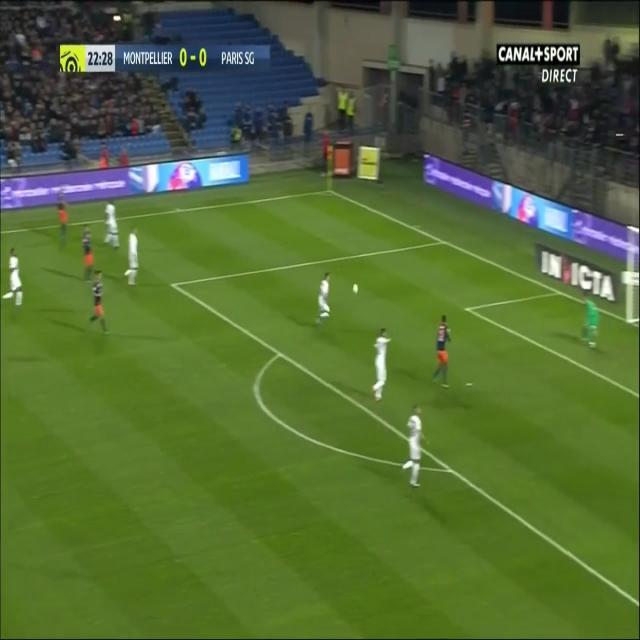Ball: (352, 279, 359, 298)
Goalkeeper: (578, 288, 600, 355)
Player: (402, 403, 431, 488), (369, 324, 396, 409), (430, 312, 453, 392), (86, 269, 109, 338), (3, 244, 24, 310), (100, 196, 120, 256), (312, 271, 333, 328), (55, 190, 71, 253), (125, 225, 140, 291), (80, 225, 95, 288)
